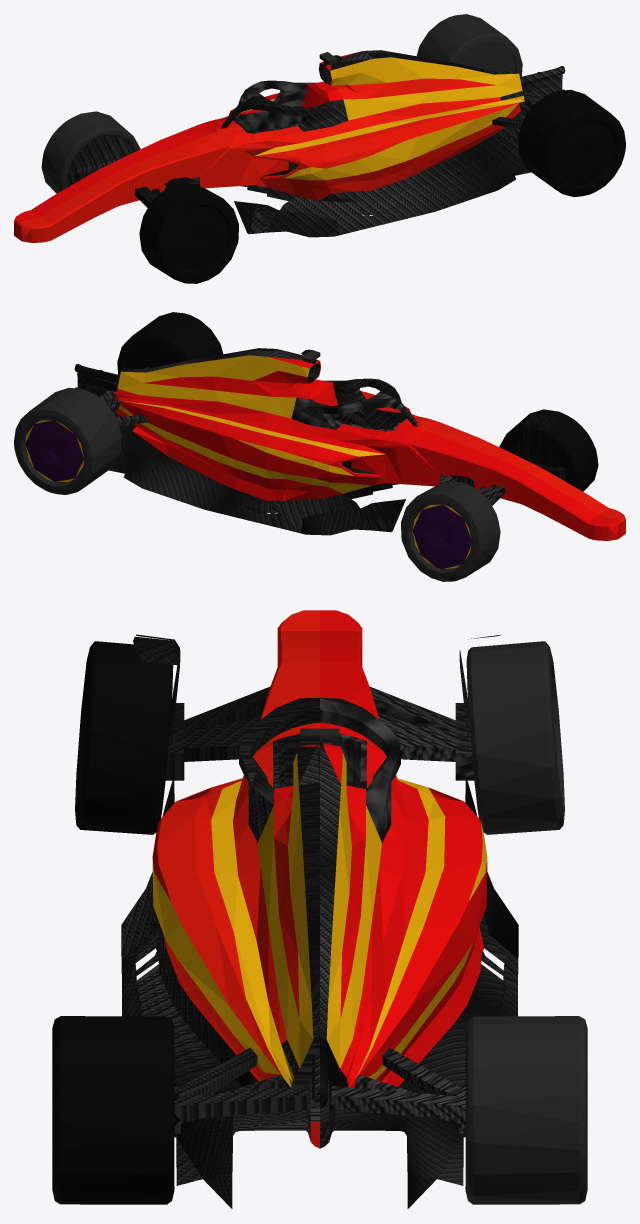
3 renders of one model, top to bottom at view 1: azimuth 30°, elevation 25°; view 2: azimuth 150°, elevation 25°; view 3: azimuth 270°, elevation 25°, orthographic. The views are drawn at different scales.
Visible parts, largest first — view 1: vermell, rodes, fibra de carboni, dorat, rodes.001, vermell.001, fibra; view 2: vermell.001, rodes.001, fibra, rodes, dorat.001, vermell, fibra de carboni; view 3: rodes, rodes.001, vermell.001, vermell, fibra, fibra de carboni, dorat, dorat.001.
Part boxes in pixels (x1,y1,x2,y2): vermell: (18,65,520,242); rodes: (135,89,625,283); fibra de carboni: (221,52,565,237); dorat: (254,57,524,180); rodes.001: (41,14,522,193); vermell.001: (14,51,359,238); fibra: (221,50,564,237); vermell.001: (108,356,621,540); rodes.001: (14,387,504,581); fibra: (74,349,417,535); rodes: (117,312,598,491); dorat.001: (115,355,384,493); vermell: (314,361,625,536); fibra de carboni: (79,348,418,429); rodes: (52,634,309,1204); rodes.001: (171,634,587,1204); vermell.001: (274,610,487,1087); vermell: (152,610,319,1148); fibra: (163,697,518,1208); fibra de carboni: (121,697,319,1208); dorat: (152,753,313,1087); dorat.001: (326,753,487,1079).
Bounding box in the file's own units: 4.17 × 1.02 × 1.77.
10 materials, 2 textured.
